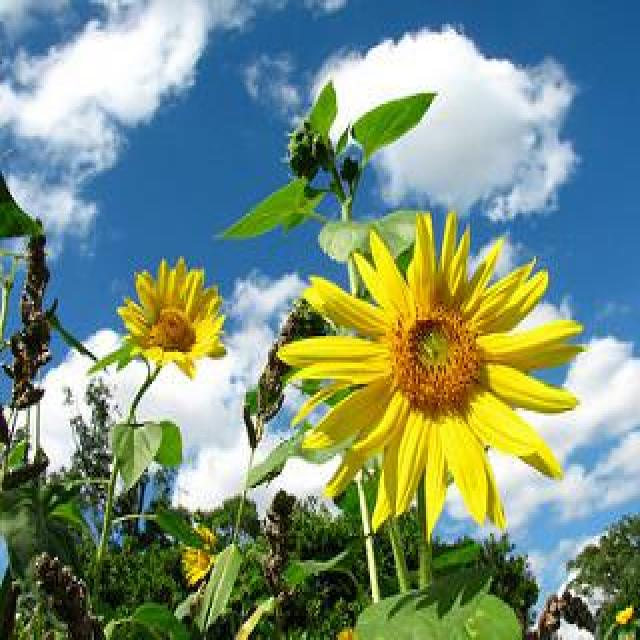sunflower: (277, 212, 583, 538), (117, 256, 227, 378), (182, 527, 216, 584)
